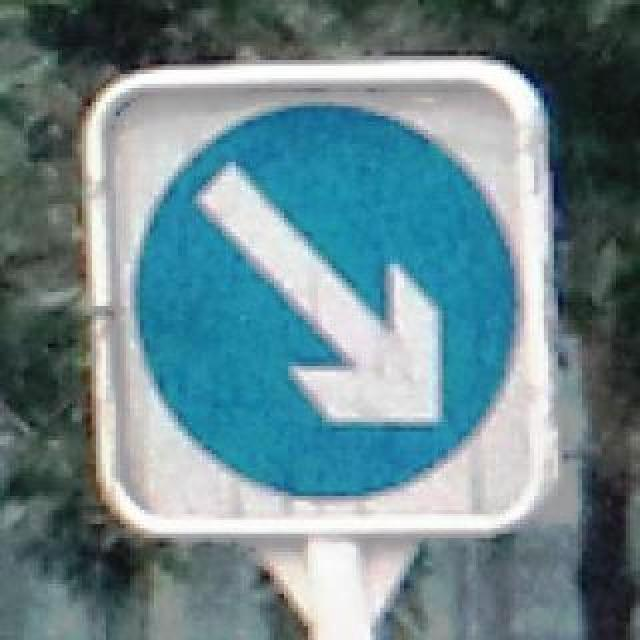keep right: (132, 102, 524, 502)
